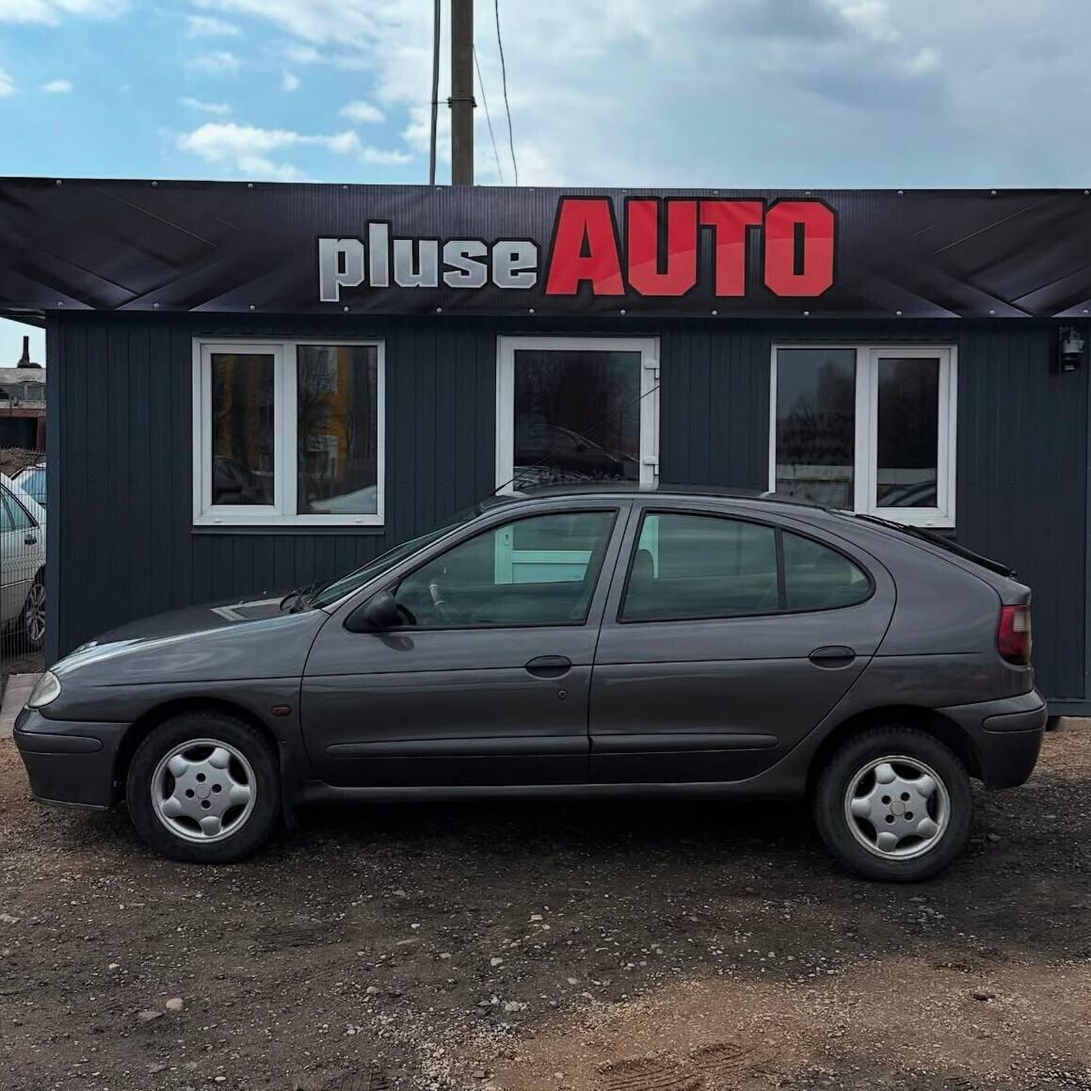Megane_1999-2003: (11, 485, 1051, 904)
